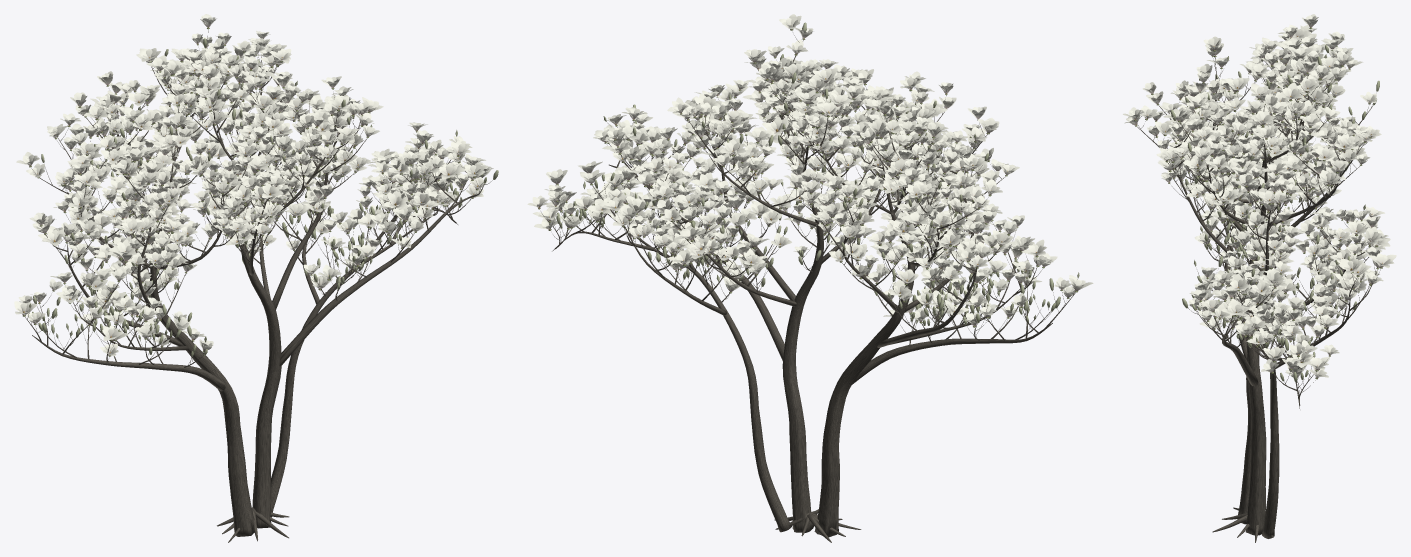
The model's file is white-magnolia.glb.
The picture shows the model from 3 angles, left to right: view 1: azimuth 30°, elevation 25°; view 2: azimuth 150°, elevation 25°; view 3: azimuth 270°, elevation 25°; orthographic projection. The views are drawn at different scales.
Parts seen in each view (by area): view 1: Flowers, Tree_Wood, Buds; view 2: Flowers, Tree_Wood, Buds; view 3: Flowers, Tree_Wood, Buds.
Part boxes in pixels (left/top/right/bottom): Flowers: left=14, top=14, right=493, bottom=356; Tree_Wood: left=25, top=30, right=492, bottom=542; Buds: left=29, top=38, right=498, bottom=356; Flowers: left=527, top=14, right=1093, bottom=327; Tree_Wood: left=541, top=35, right=1077, bottom=542; Buds: left=554, top=22, right=1079, bottom=325; Flowers: left=1123, top=14, right=1396, bottom=379; Tree_Wood: left=1136, top=53, right=1380, bottom=542; Buds: left=1170, top=45, right=1379, bottom=381.
Bounding box in the file's own units: 7.18 × 6.58 × 3.45.
Materials: 5 (2 with a texture image).
